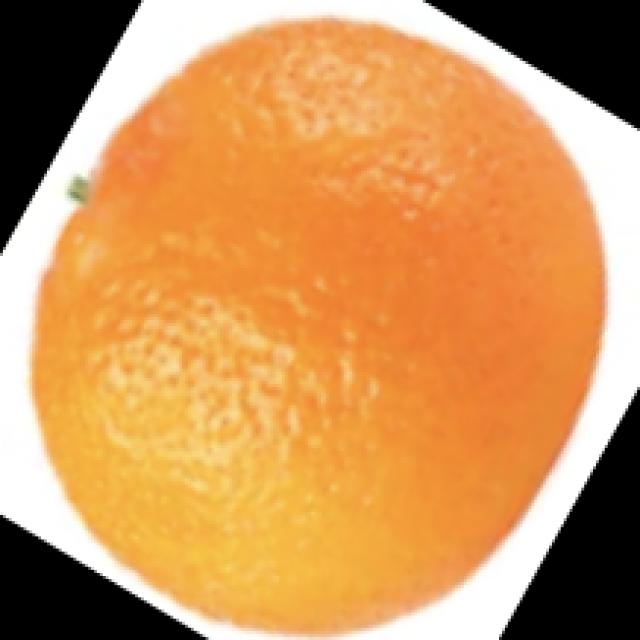fresh: (25, 5, 608, 640)
